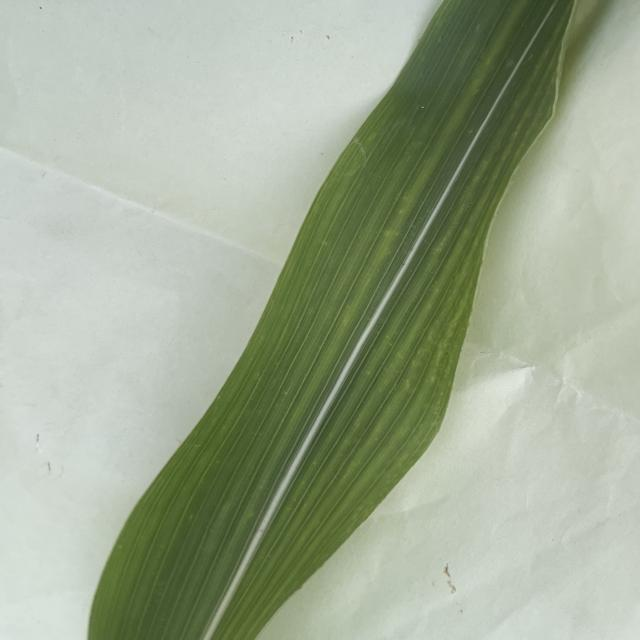millet_healthy: (87, 1, 580, 640)
